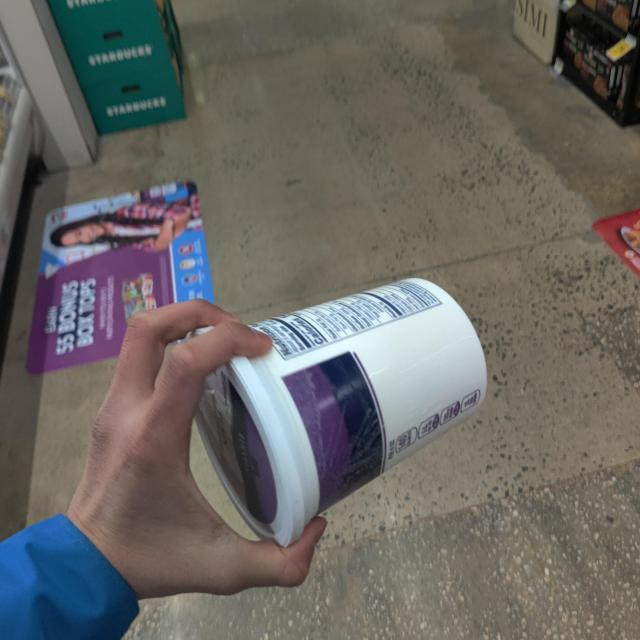Yogurt: (176, 265, 537, 551)
